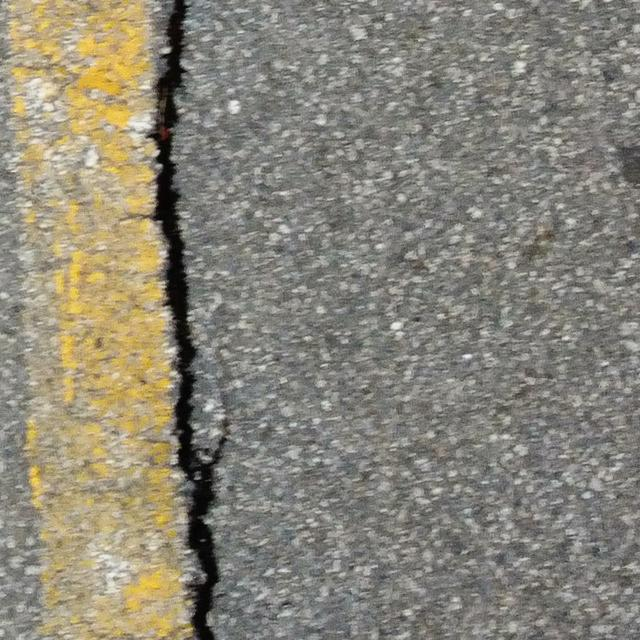LongitudinalCrack: (147, 1, 222, 640)
